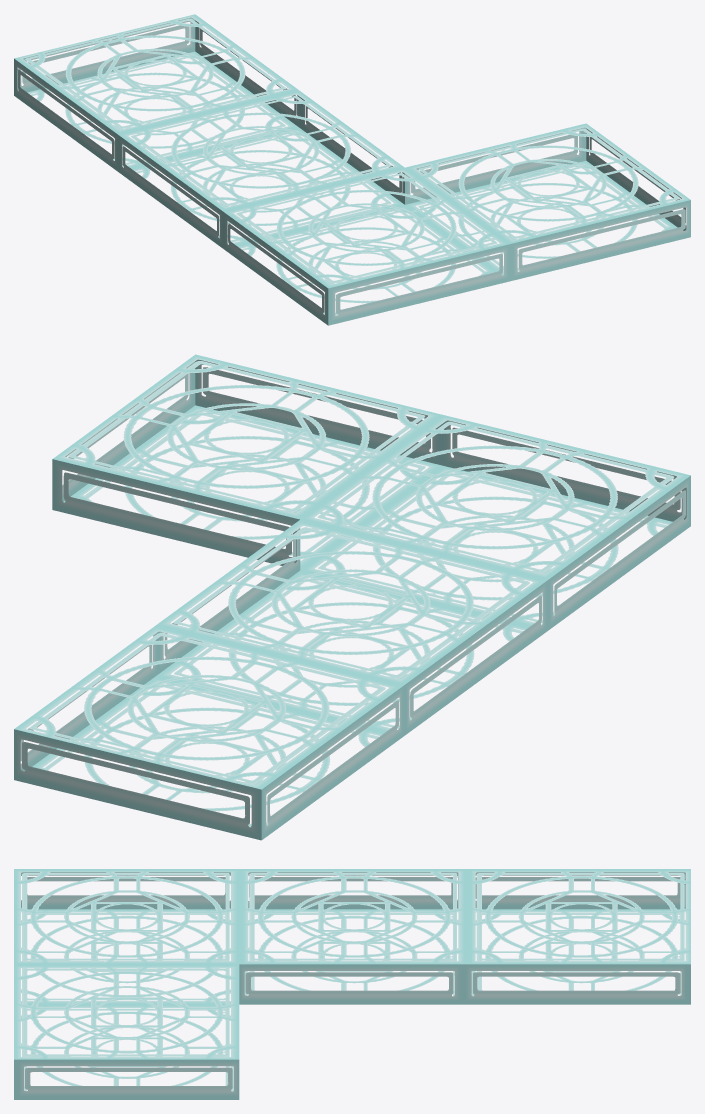
File: Plat_L.obj
3 renders of one model, top to bottom at view 1: azimuth 30°, elevation 25°; view 2: azimuth 150°, elevation 25°; view 3: azimuth 270°, elevation 25°, orthographic. The views are drawn at different scales.
Visible parts, largest first — view 1: pCube39; view 2: pCube39; view 3: pCube39.
Part boxes in pixels (x1,y1,x2,y2): pCube39: [14, 14, 690, 325]; pCube39: [14, 354, 690, 840]; pCube39: [14, 869, 690, 1099].
Bounding box in the file's own units: 9.97 × 0.978 × 14.96.
